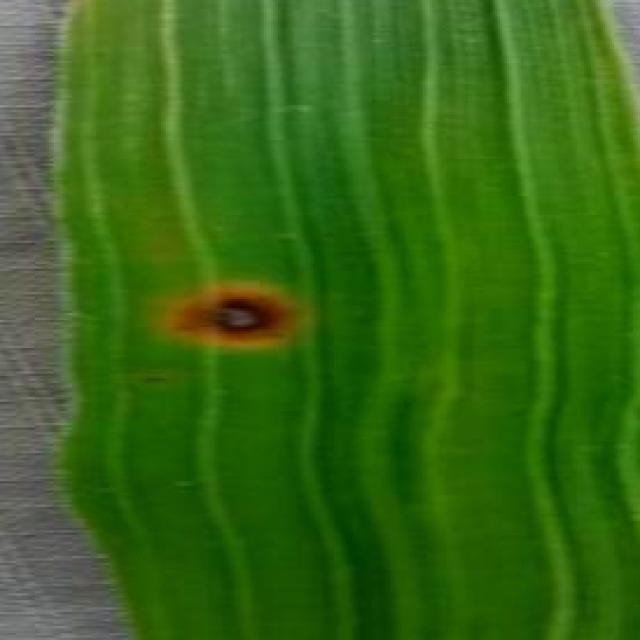Brown_Spot: (147, 271, 306, 357), (128, 367, 172, 392)
